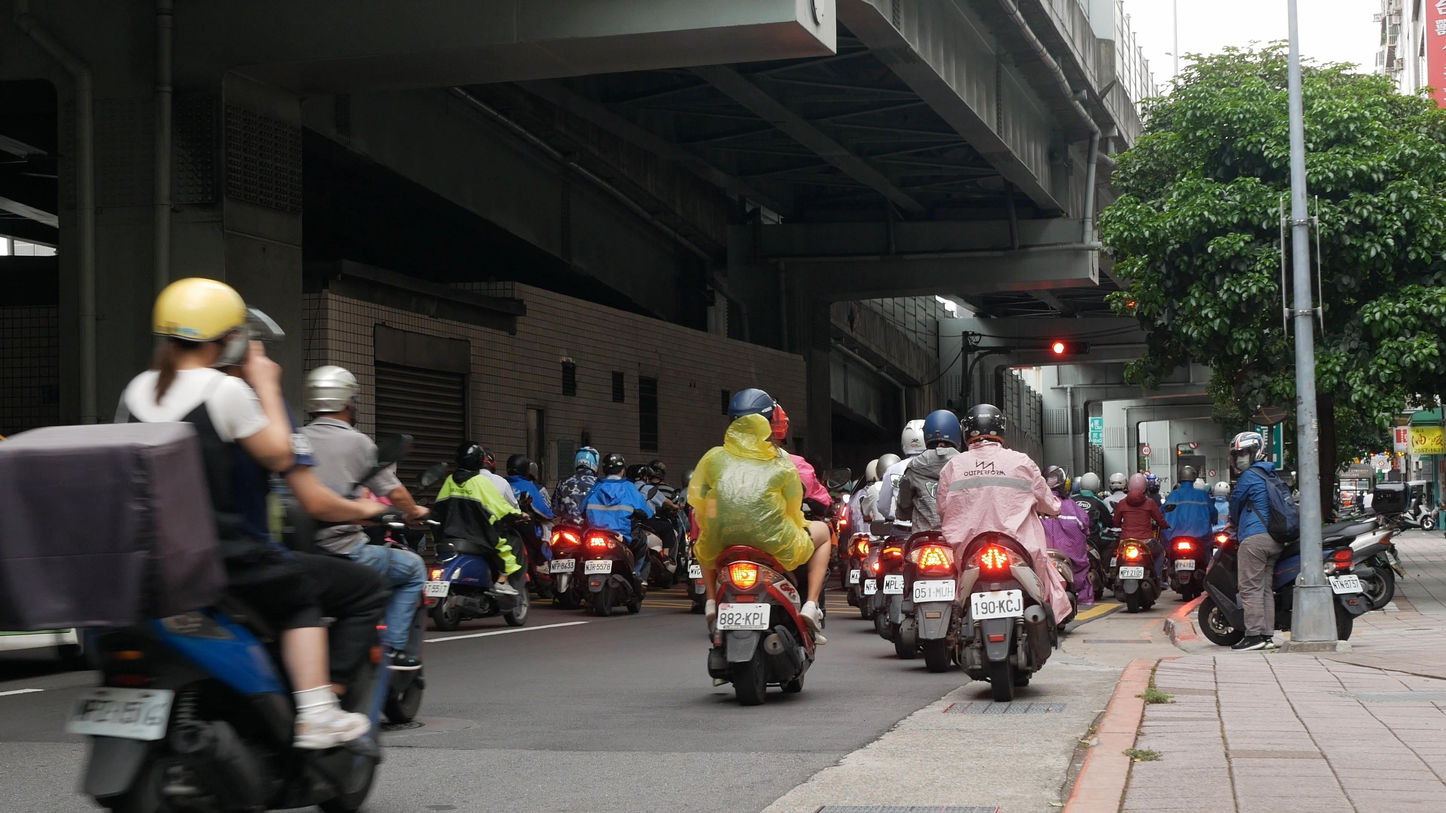driver: (0, 277, 417, 813), (685, 387, 851, 707), (936, 404, 1073, 701), (422, 440, 534, 632), (890, 409, 964, 674), (580, 452, 659, 617), (1109, 473, 1178, 613), (550, 445, 602, 610), (1159, 465, 1218, 601)
helmet: (151, 277, 250, 368), (303, 365, 362, 427), (726, 388, 777, 428), (961, 404, 1006, 447), (1229, 431, 1268, 475), (922, 410, 961, 451), (766, 402, 789, 446), (901, 420, 927, 458), (455, 441, 487, 471), (574, 445, 600, 476), (875, 453, 901, 481), (602, 452, 627, 479), (506, 454, 529, 479), (630, 464, 655, 486), (1080, 472, 1101, 495), (1178, 465, 1198, 485), (1128, 474, 1148, 494), (648, 460, 666, 482), (482, 446, 496, 474), (1108, 473, 1127, 493), (865, 459, 880, 484)
